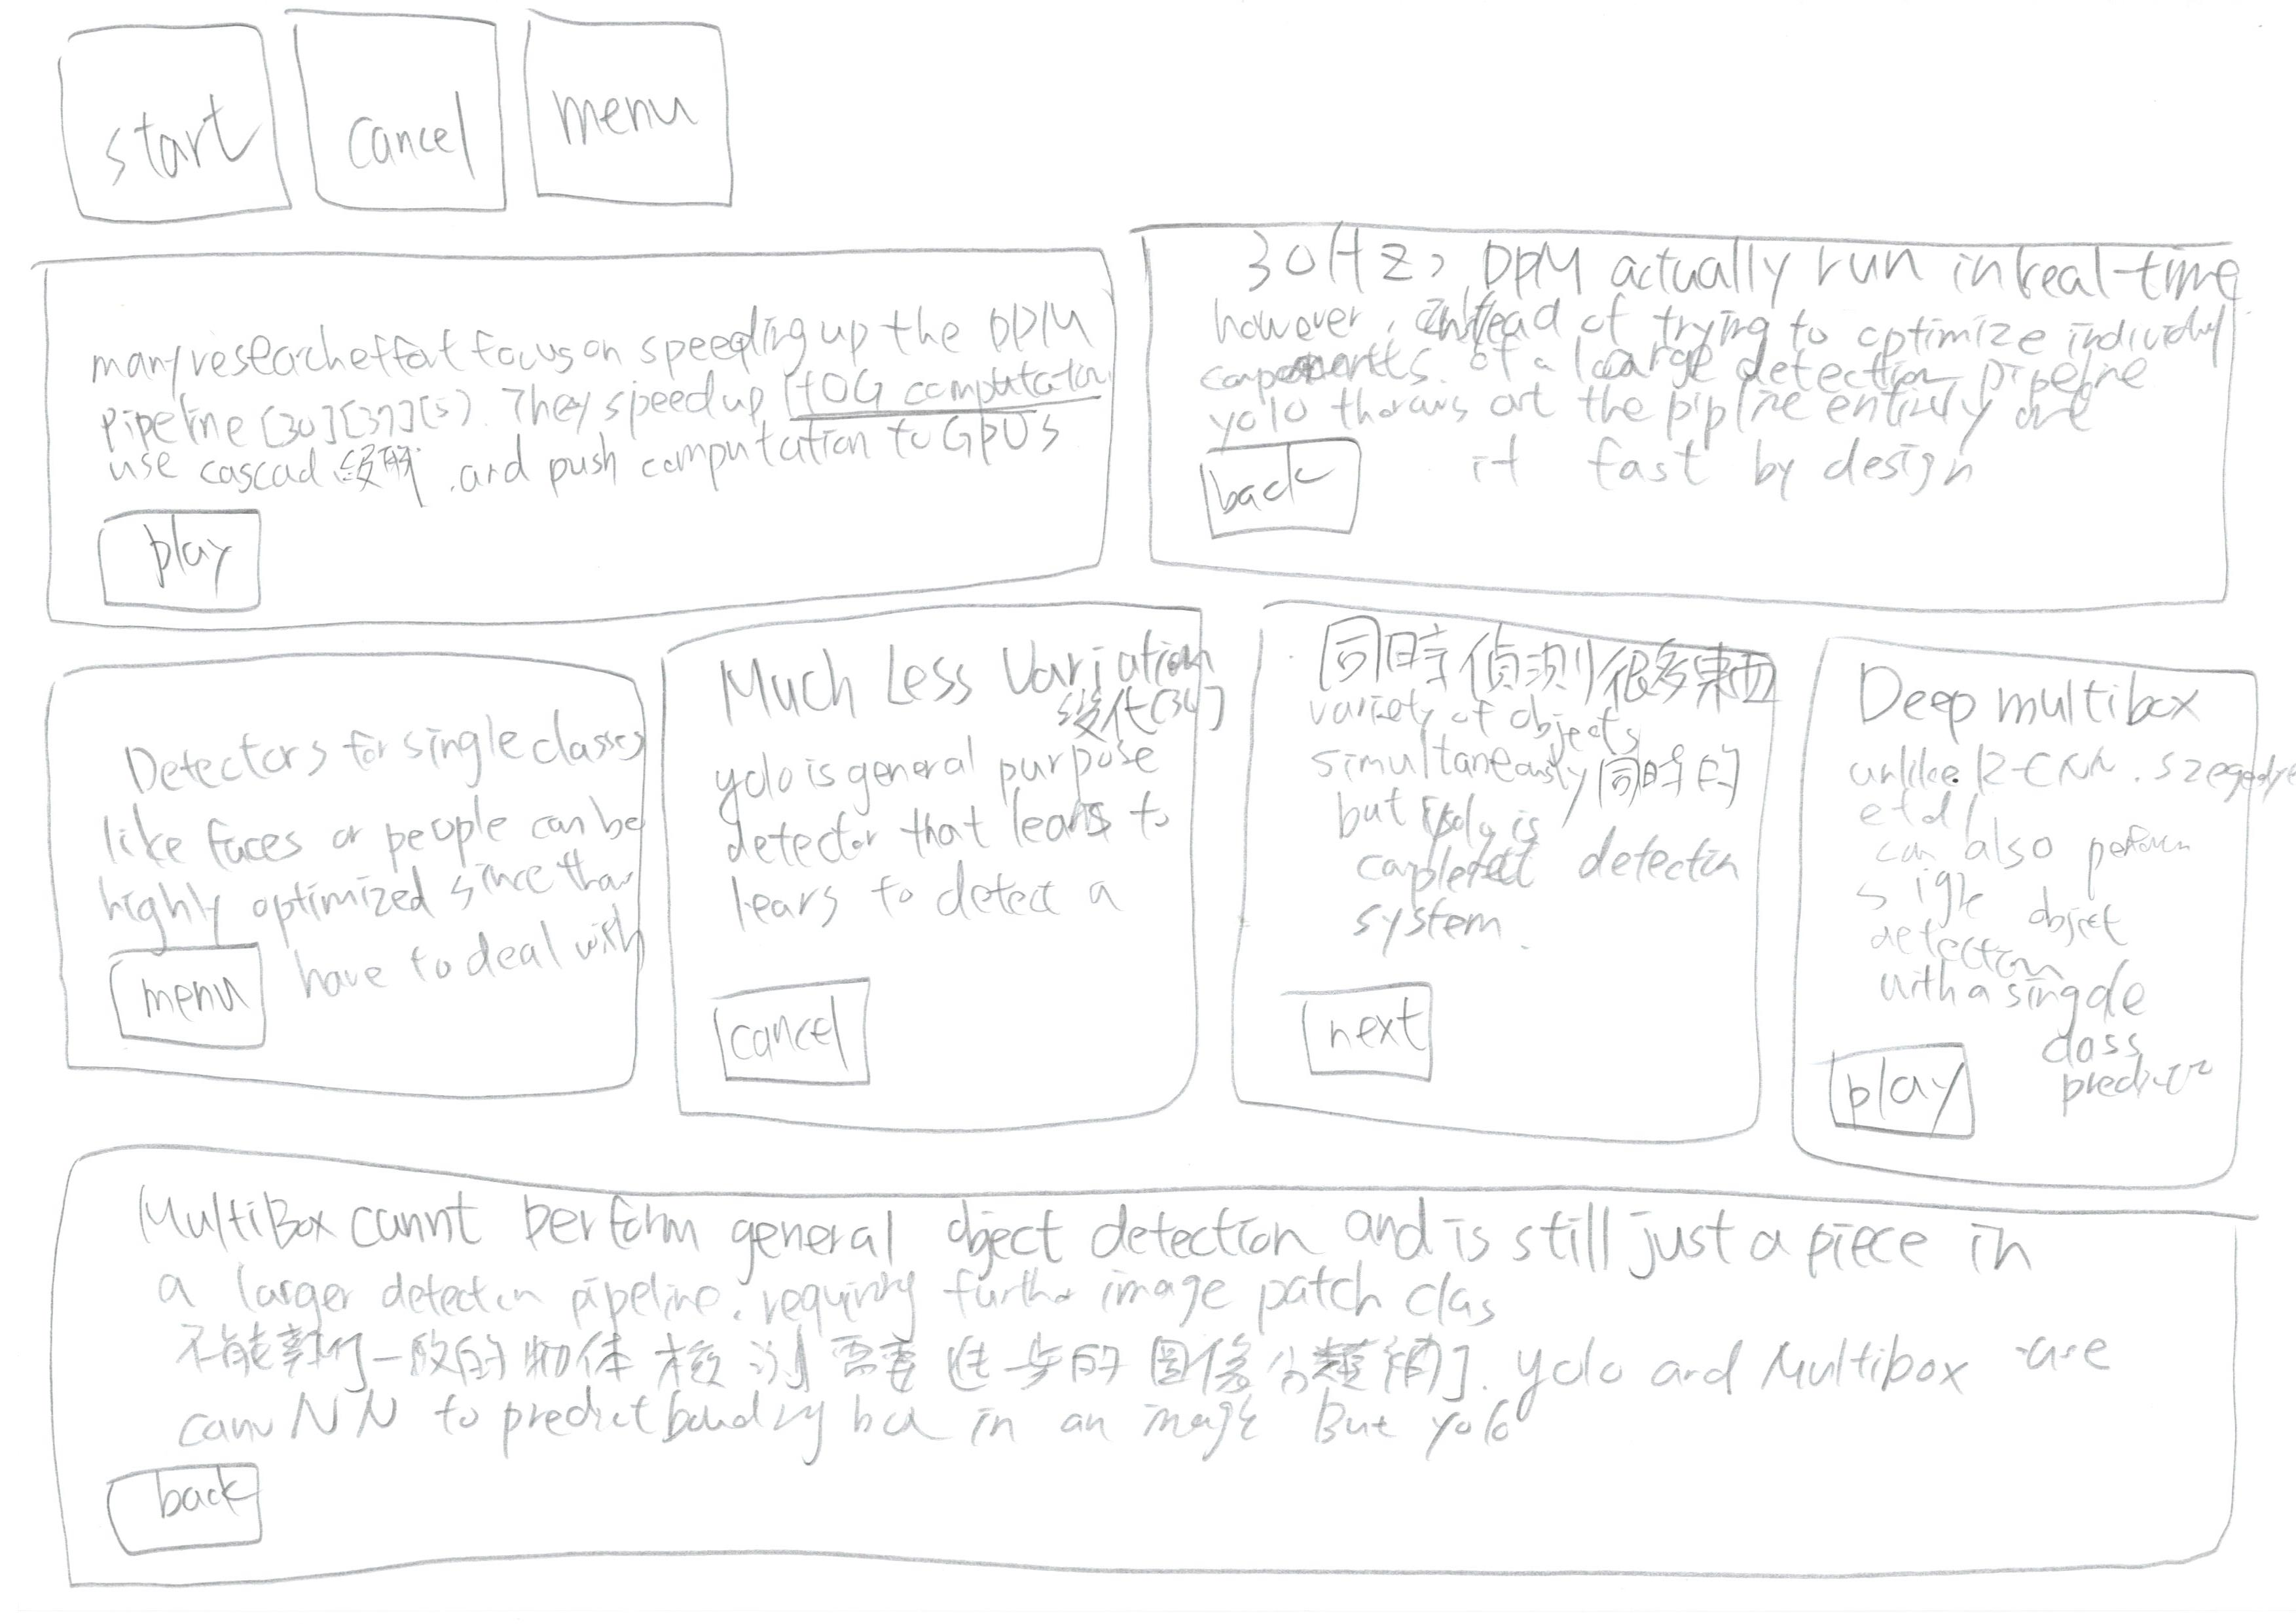back: (1157, 431, 1375, 545), (88, 1455, 283, 1570)
cancel: (304, 0, 517, 236), (698, 975, 905, 1111)
menu: (520, 0, 749, 221), (72, 919, 301, 1058)
next: (1266, 954, 1473, 1100)
play: (1811, 1032, 2016, 1165), (72, 501, 290, 626)
quadruple: (645, 592, 1255, 1153), (1204, 594, 1814, 1155), (19, 629, 666, 1127), (1779, 610, 2296, 1209)
row: (2, 575, 2296, 1190), (2, 170, 2296, 643), (2, 1134, 2296, 1599), (0, 0, 2294, 246)
single: (23, 1104, 2296, 1613), (1127, 193, 2296, 643), (26, 213, 1144, 659)
small-title: (121, 1162, 2027, 1280), (1220, 221, 2234, 306), (680, 636, 1220, 728), (1320, 619, 1770, 708), (1842, 647, 2215, 743)
start: (19, 11, 306, 244)
text: (183, 1243, 2133, 1457), (105, 311, 1072, 485), (1231, 297, 2168, 425), (93, 731, 608, 953), (703, 733, 1153, 958), (1860, 742, 2203, 1028), (1317, 705, 1739, 937)
